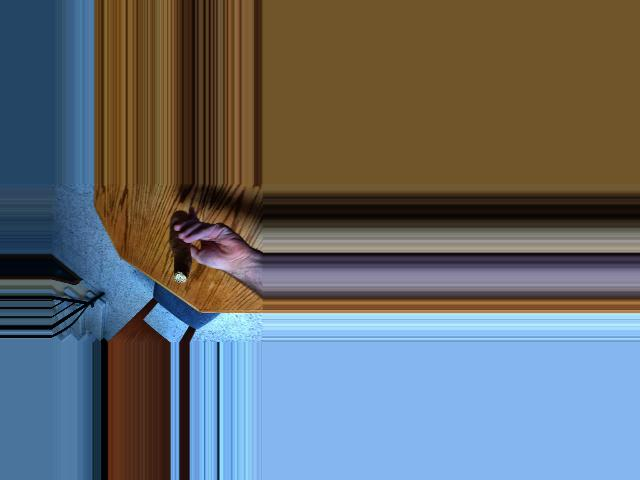sweet_potato: (162, 216, 189, 274)
